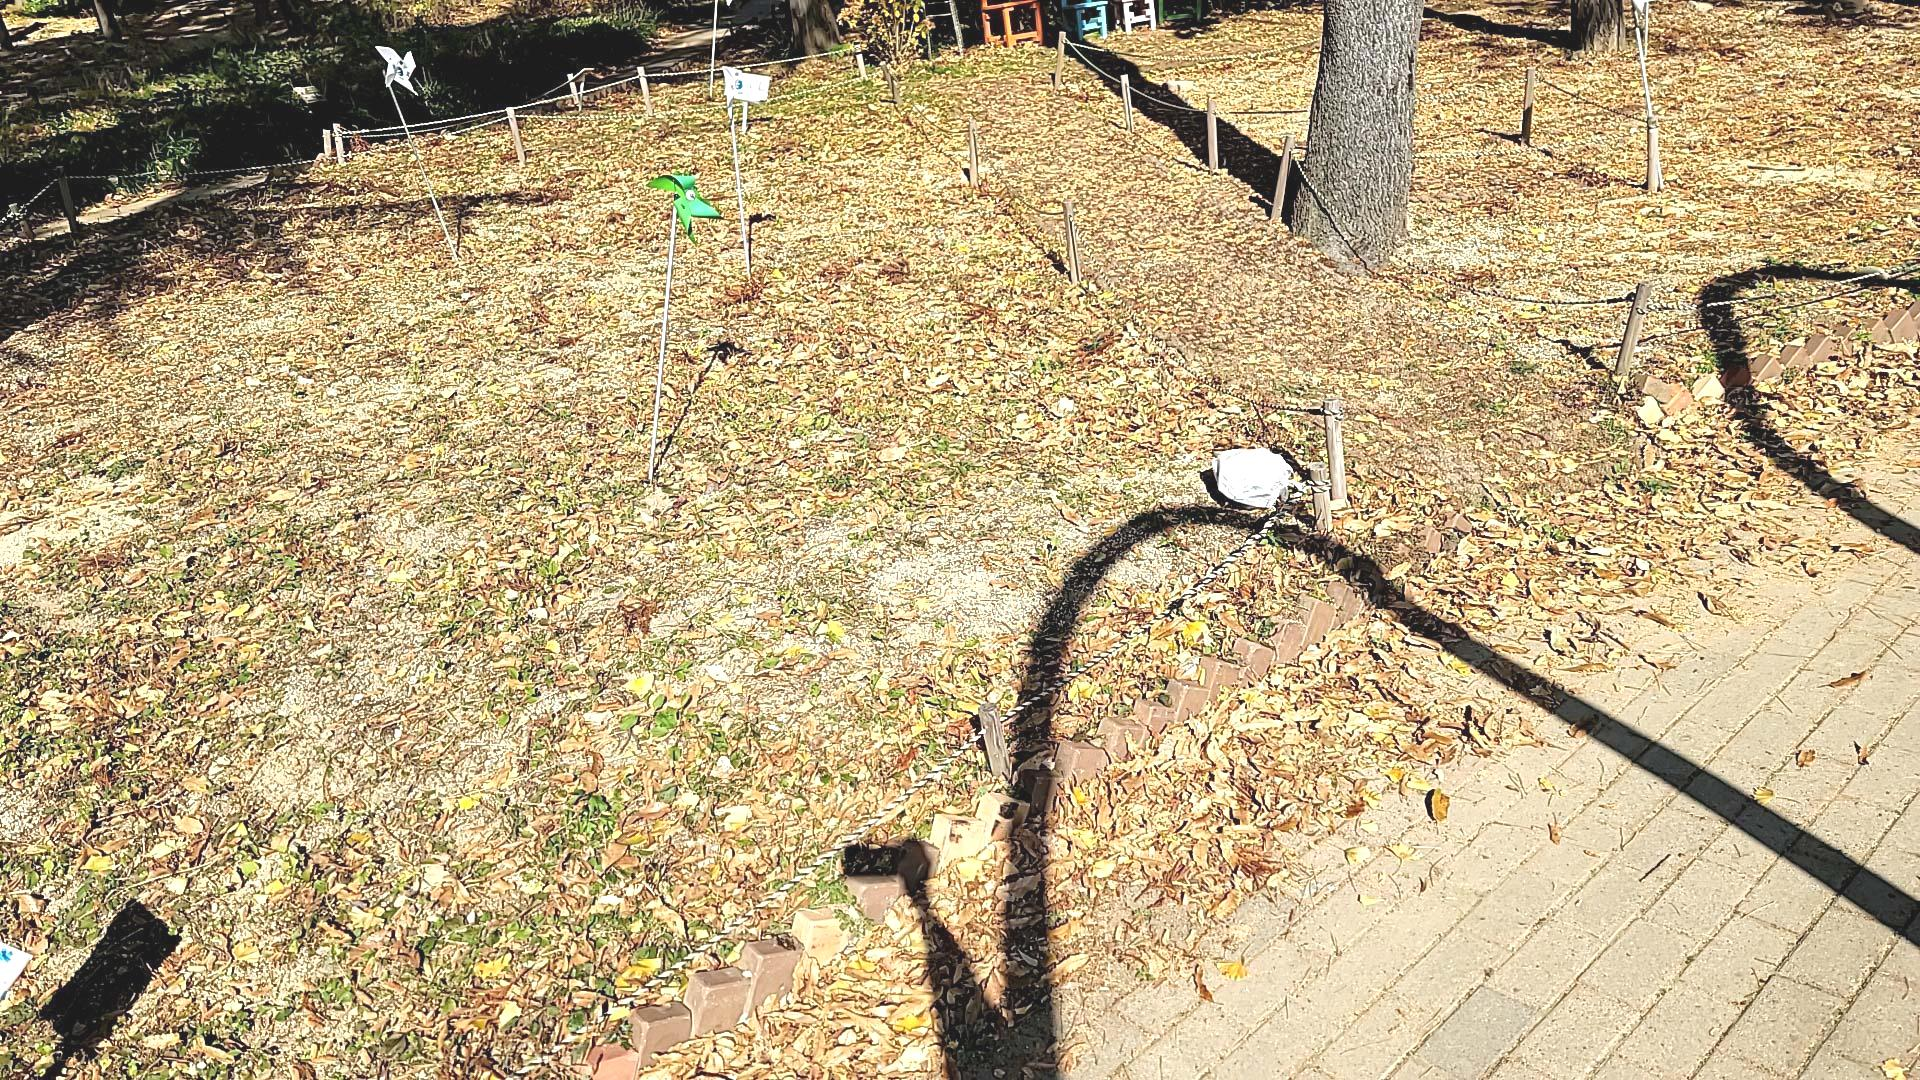white_bag: (1197, 443, 1319, 517)
